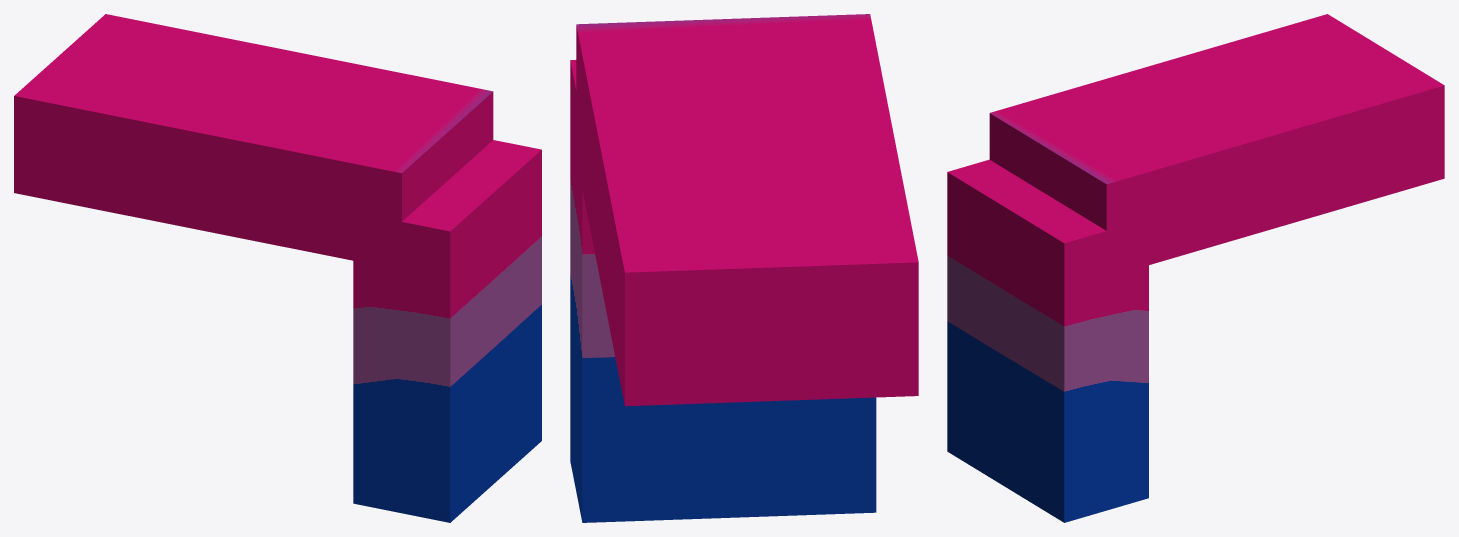
Rendered from Bi Plume.fbx.
3 views of the same model, side by side, from view 1: azimuth 30°, elevation 25°; view 2: azimuth 150°, elevation 25°; view 3: azimuth 270°, elevation 25° (orthographic). The views are drawn at different scales.
Parts seen in each view (by area): view 1: Plume; view 2: Plume; view 3: Plume.
Part boxes in pixels (x1,y1,x2,y2): Plume: (14,14,541,522); Plume: (570,14,918,522); Plume: (947,14,1444,522).
Size of the model in its own units: 42.07 by 35 by 48.38.
Materials: 1 (1 with a texture image).
